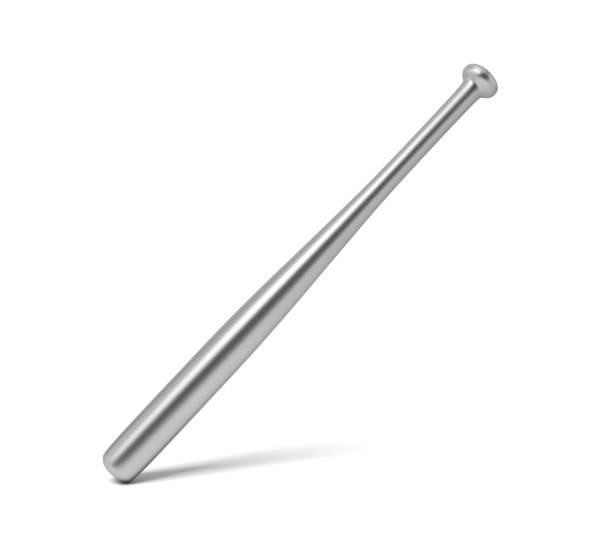bita: (90, 65, 499, 492)
